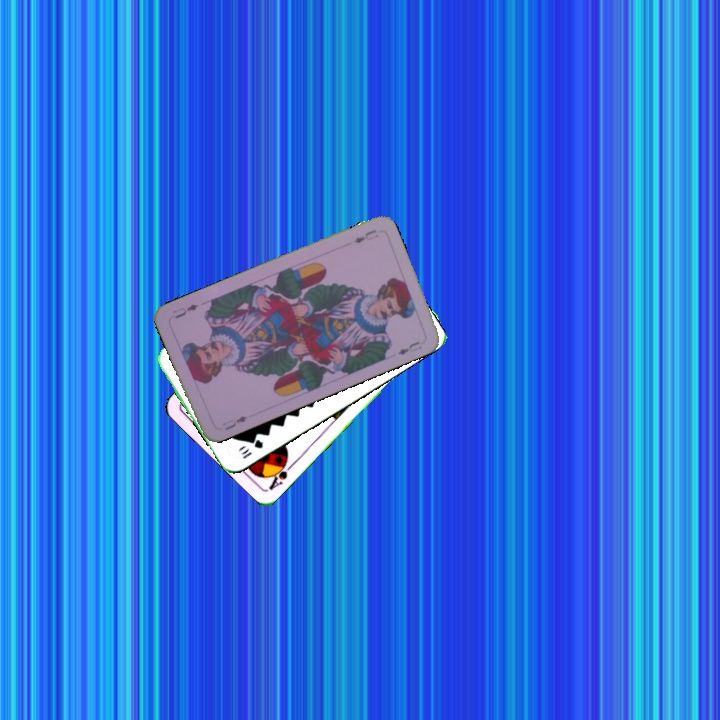EU: (219, 412, 250, 433), (350, 225, 381, 246)
G10: (236, 435, 266, 462)
SA: (265, 455, 297, 493)
